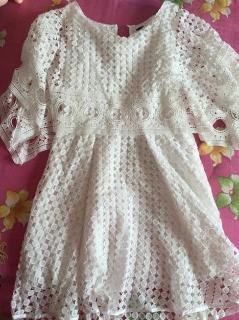short sleeve top: (0, 0, 239, 165)
skirt: (10, 103, 239, 319)
